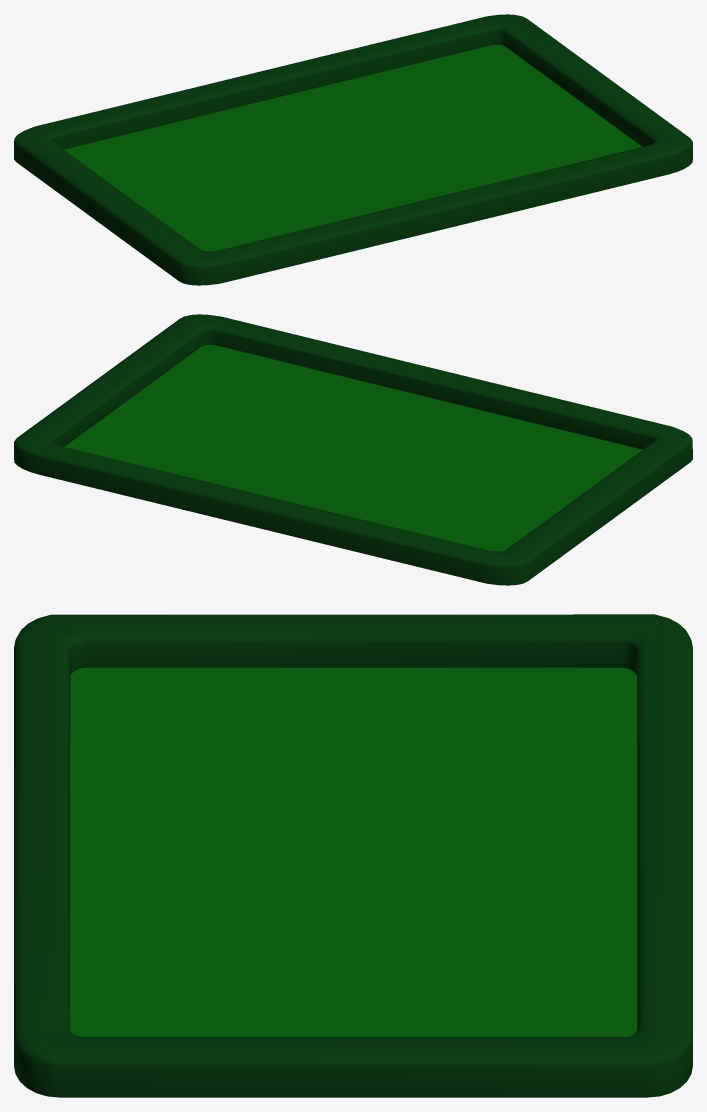
File: World 2.fbx
3 views of the same model, one above another, from view 1: azimuth 30°, elevation 25°; view 2: azimuth 150°, elevation 25°; view 3: azimuth 270°, elevation 25° (orthographic). The views are drawn at different scales.
Visible parts, largest first — view 1: Ground; view 2: Ground; view 3: Ground.
Part boxes in pixels (x1,y1,x2,y2): Ground: (14, 14, 692, 285); Ground: (14, 314, 692, 585); Ground: (14, 614, 692, 1097).
Bounding box in the file's own units: 5982 × 235 × 3819.
